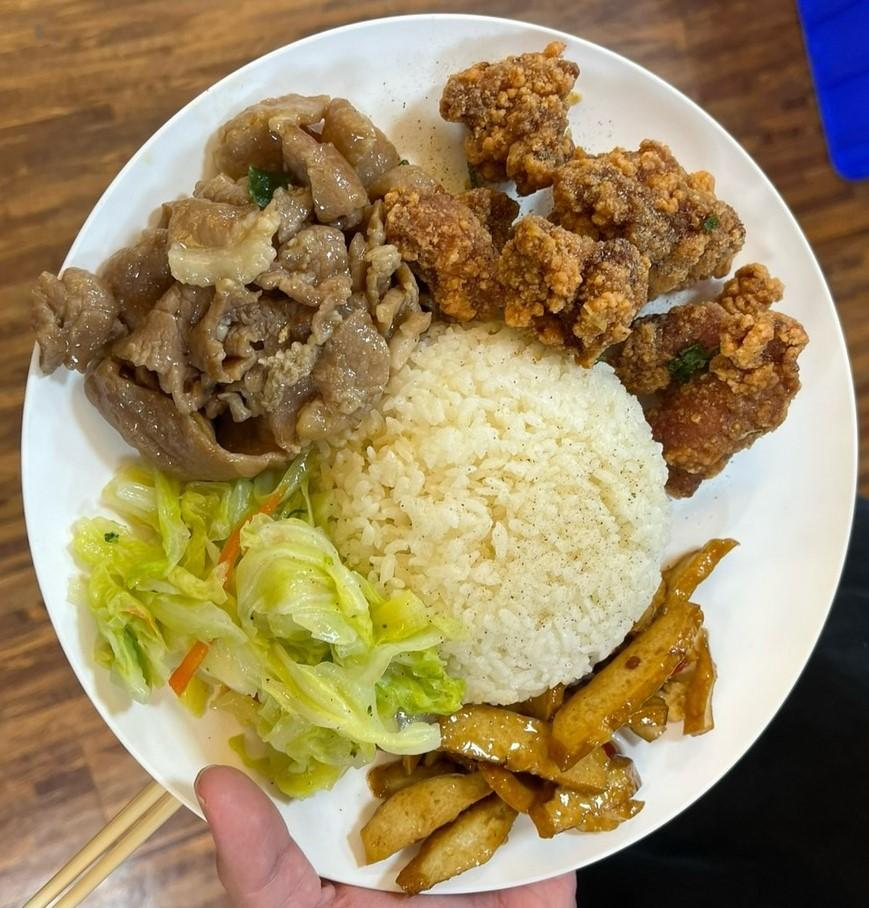big fried chicken leg: (18, 10, 859, 902)
big herbal chicken leg: (324, 320, 669, 697)
braised fish fillet: (352, 528, 740, 889), (64, 452, 456, 800)
braised pork: (380, 44, 810, 506), (23, 86, 420, 488)
